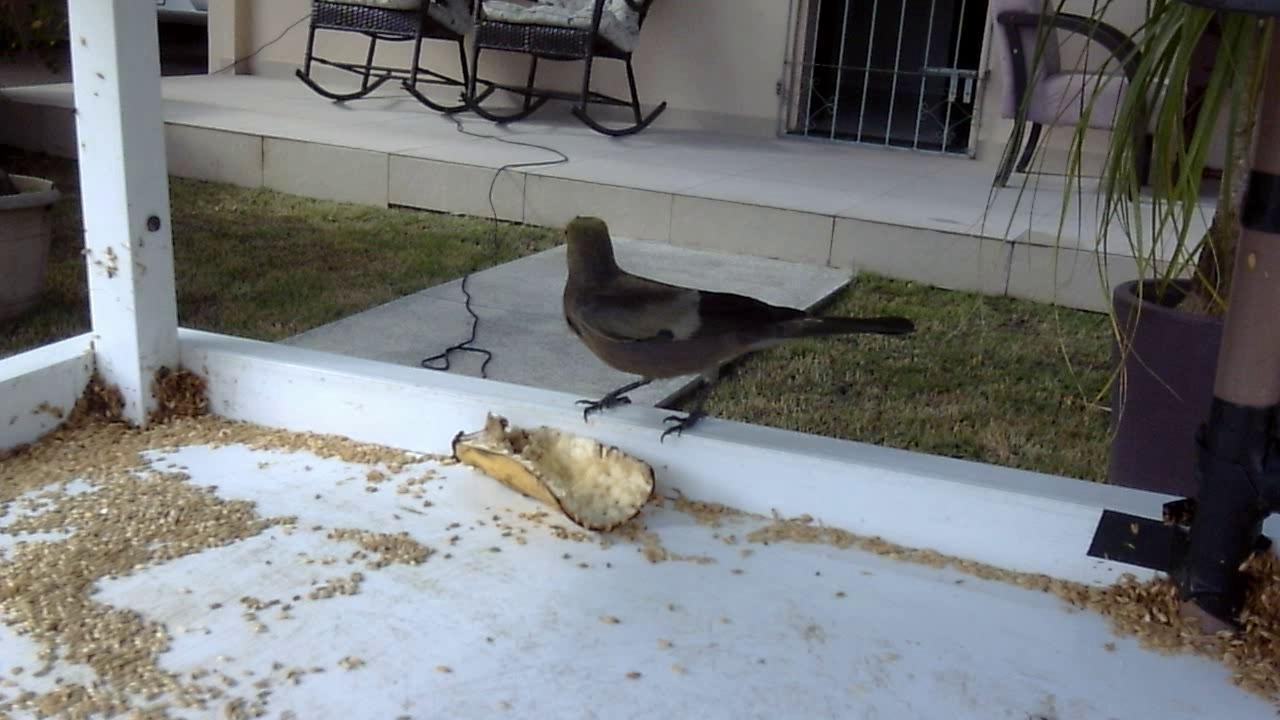sanhaco_do_coqueiro: (562, 212, 915, 445)
